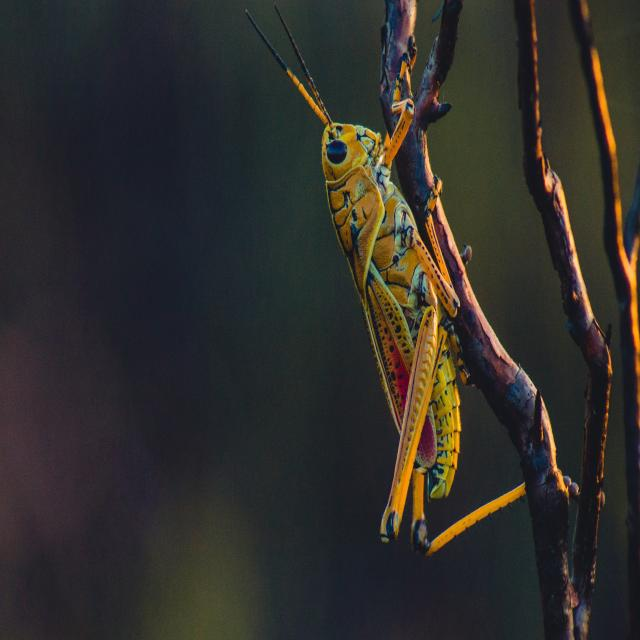ZhaMeng: (259, 19, 526, 610)
